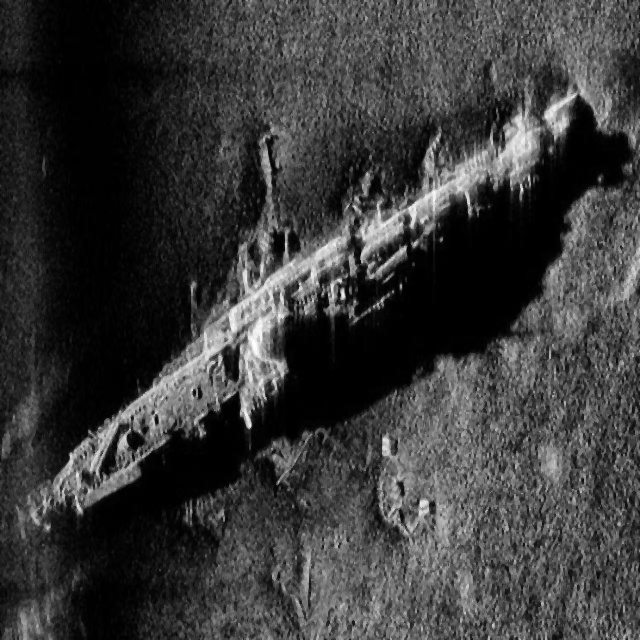Ship: (21, 53, 588, 557)
